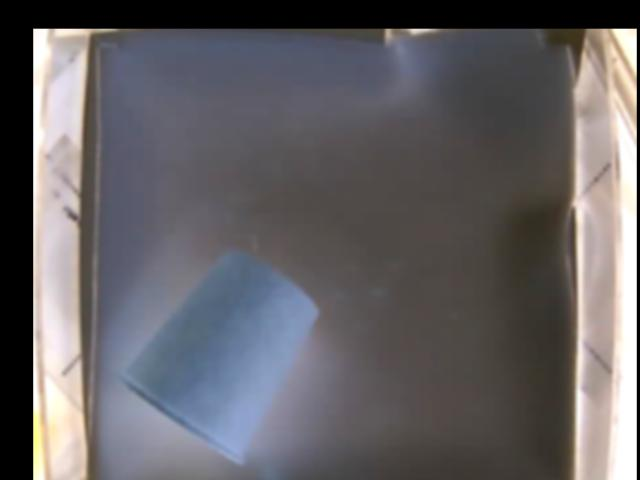Cup: (120, 252, 320, 464)
